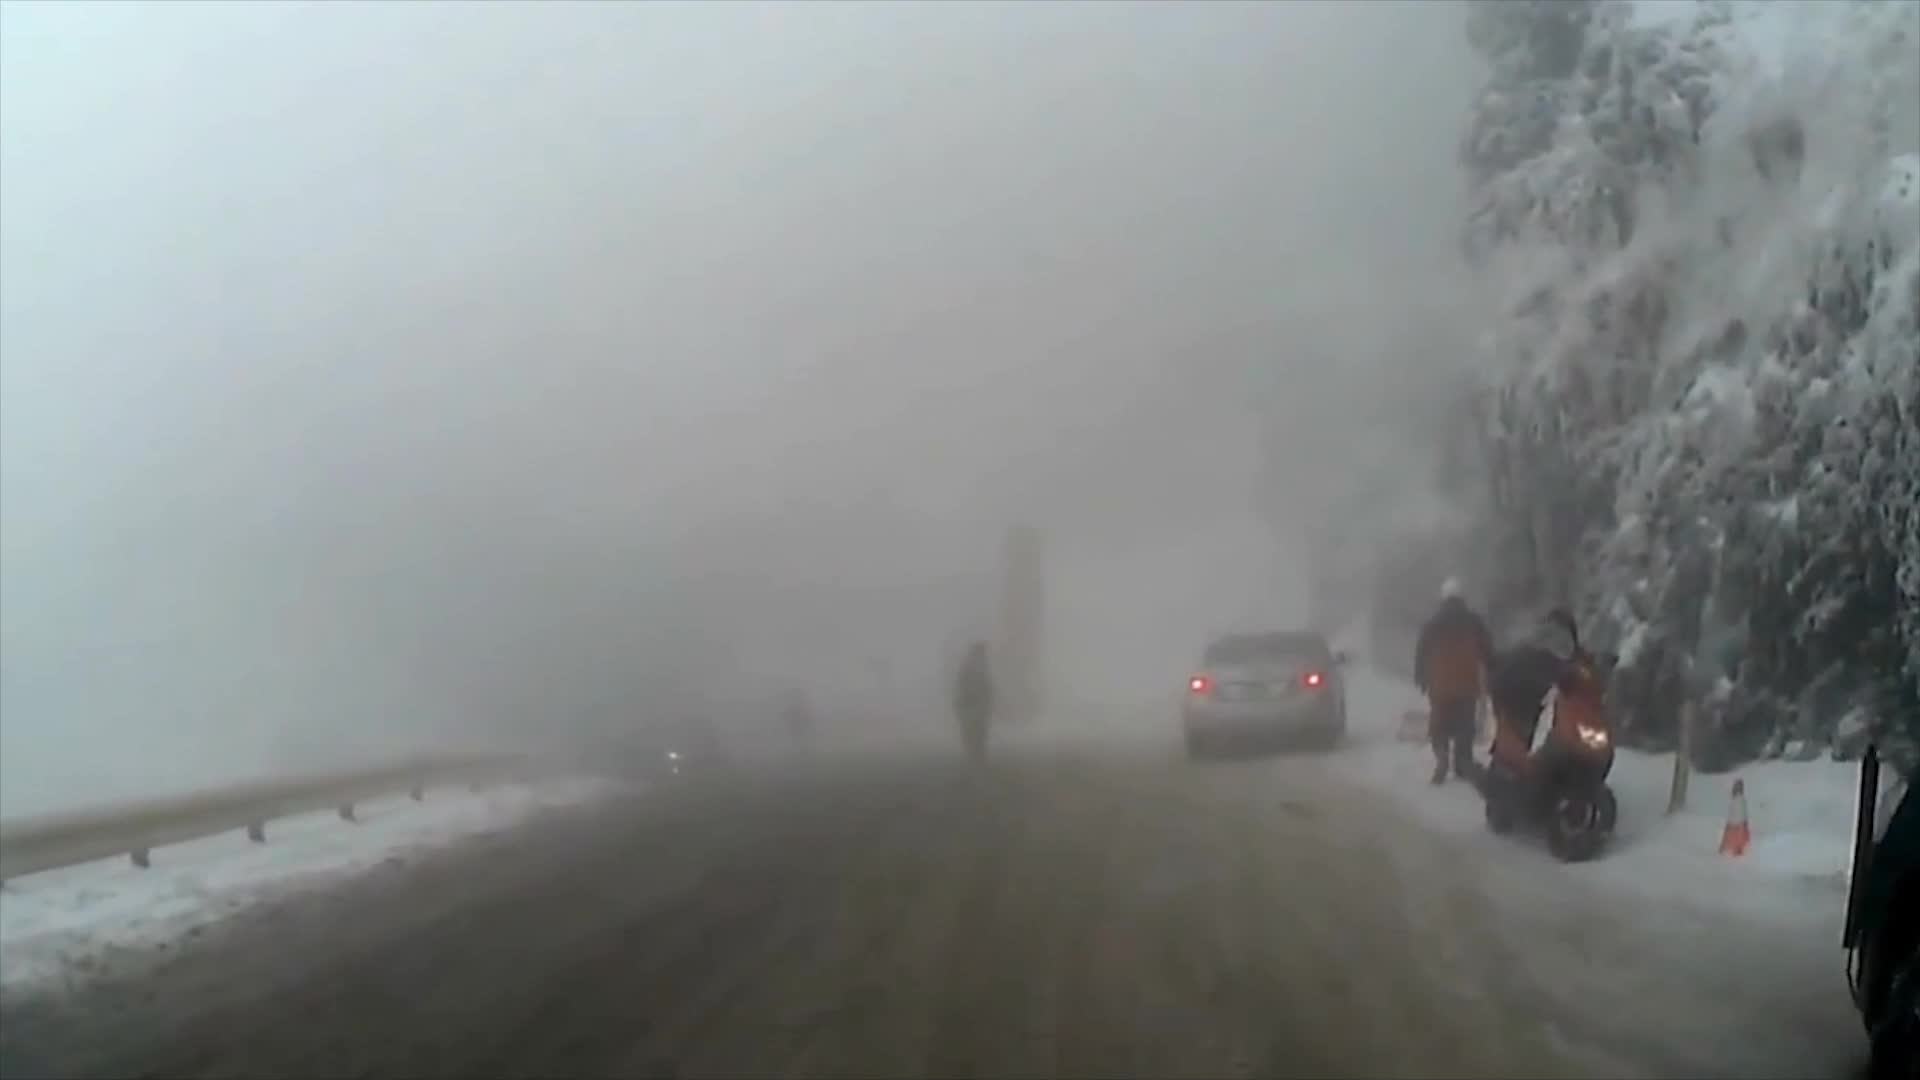pedestrian: (1409, 568, 1502, 790), (951, 637, 996, 777)
vehicle: (1836, 719, 1919, 1079), (1178, 624, 1349, 758)
